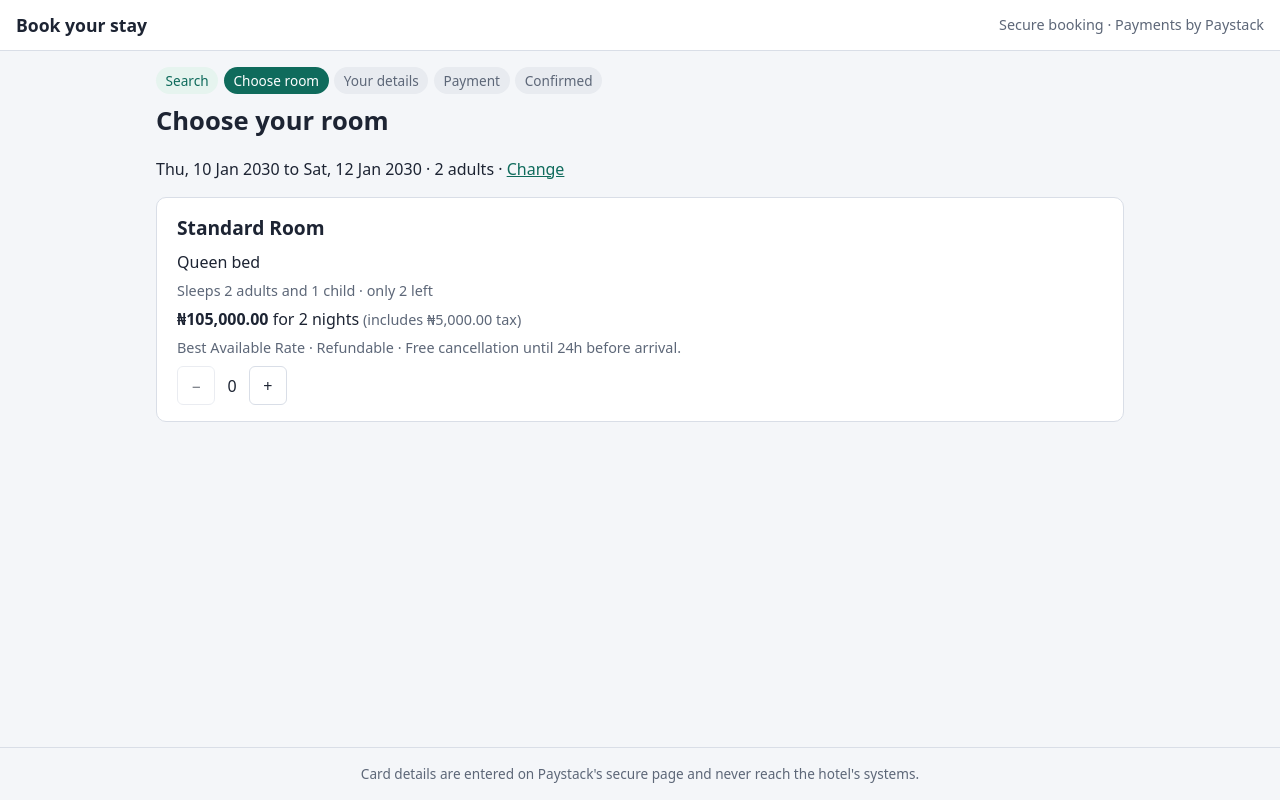
booking flow › holds the chosen room, stores the token and moves to guest details
Expected: the heading "Standard Room" is shown, [177,214,325,240]
Click the button named "Add a Standard Room". click: (268, 386)
box: [248,366,287,405]
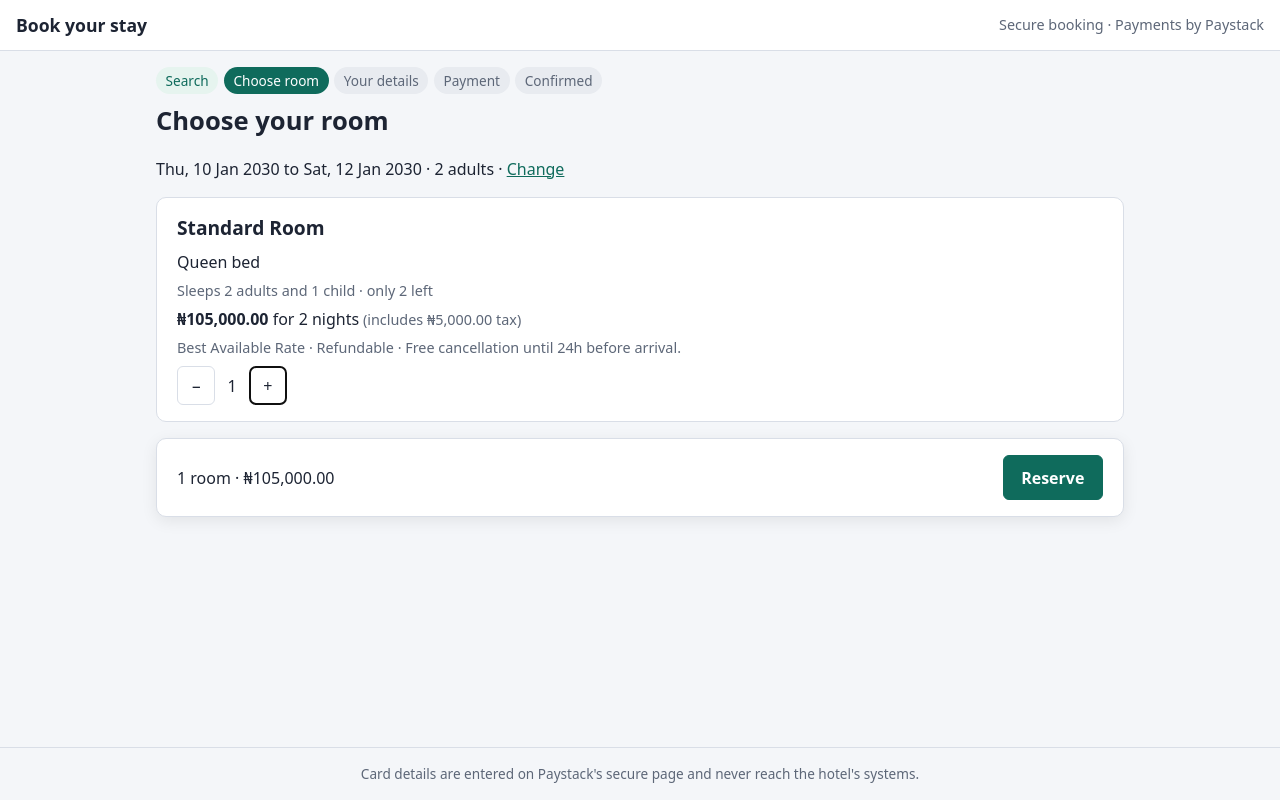
Click the button "Reserve". click: (1053, 478)
box: [1003,455,1103,500]
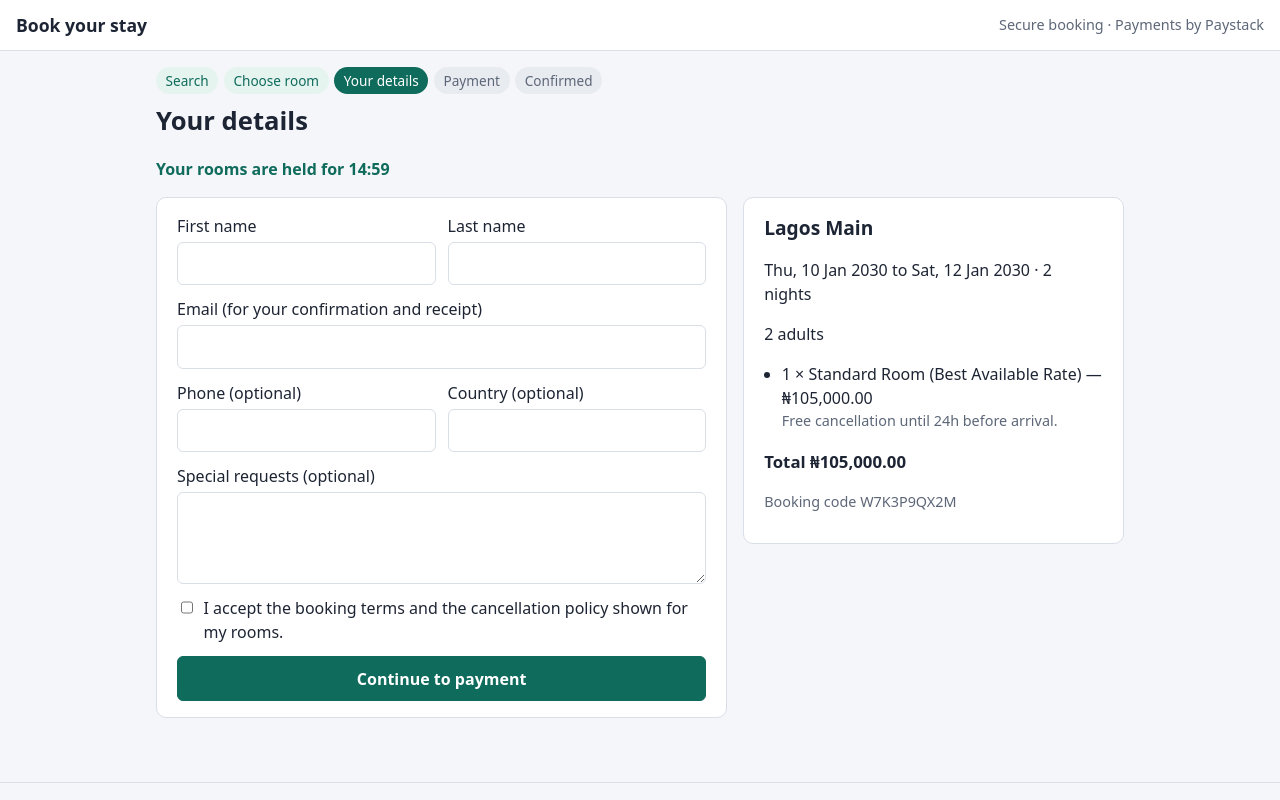
Expected: the heading "Your details" is shown, [156,103,308,138]
